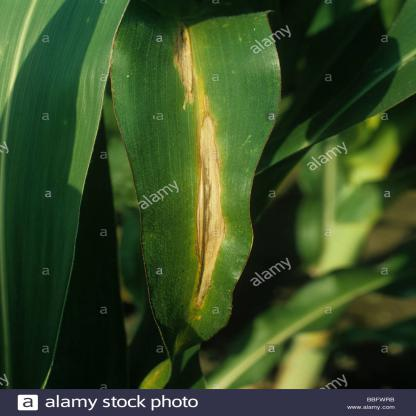corn leaf blight: (111, 15, 276, 372)
